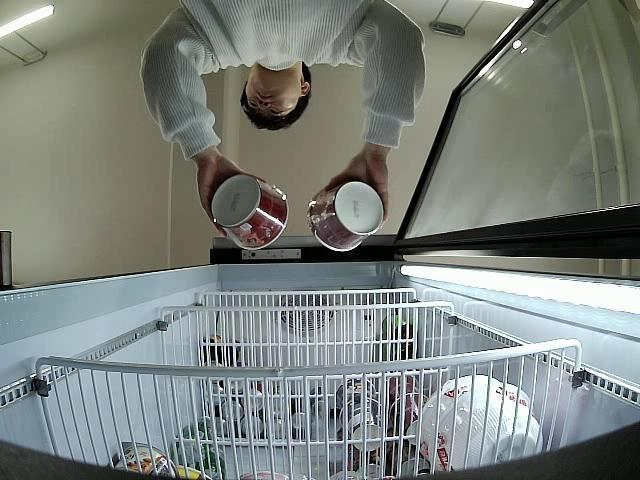05_nuguri_L: (210, 174, 289, 251), (308, 181, 384, 252)
